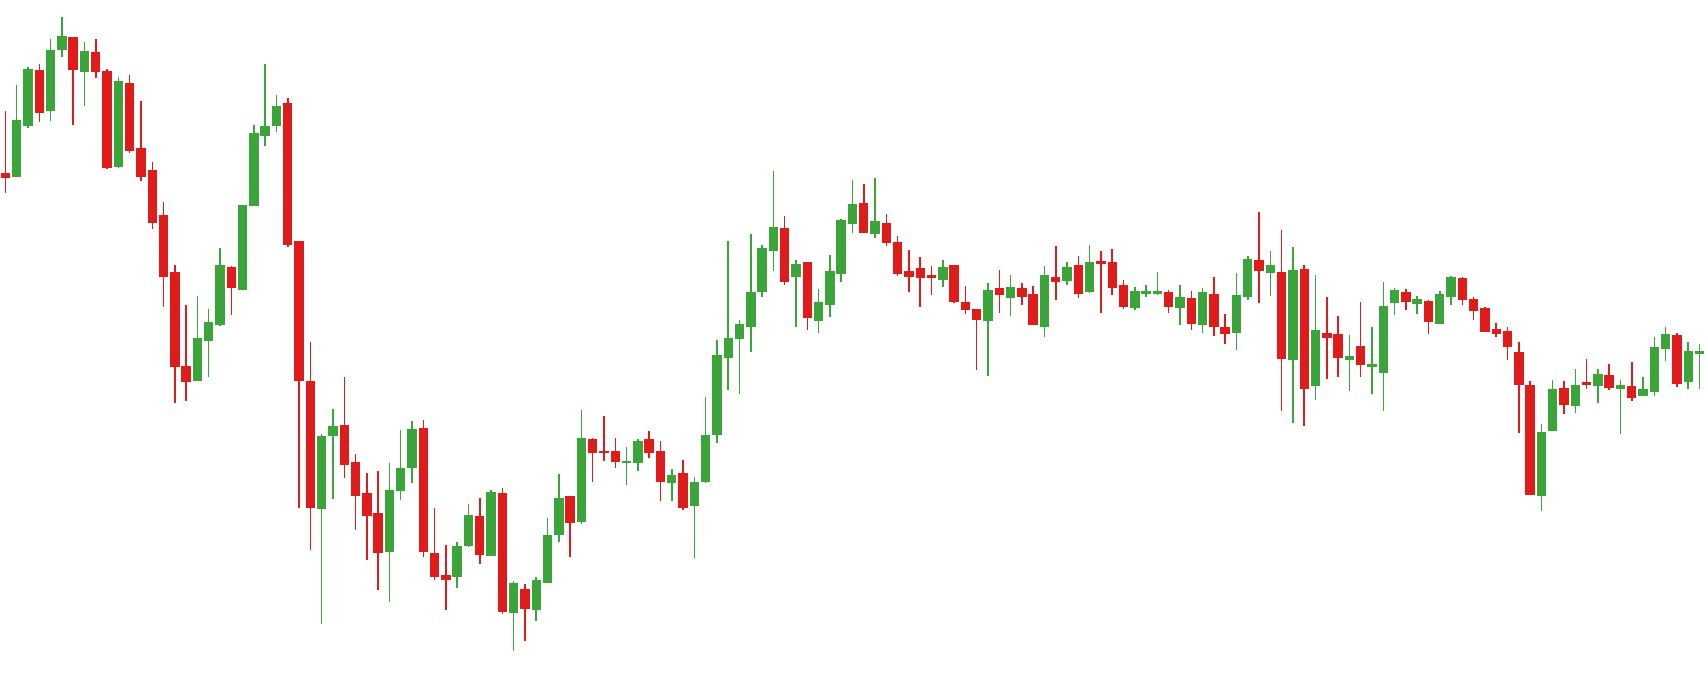buy: (1287, 323, 1558, 518), (440, 521, 520, 656)
sell: (136, 69, 271, 235), (1083, 208, 1266, 313)
